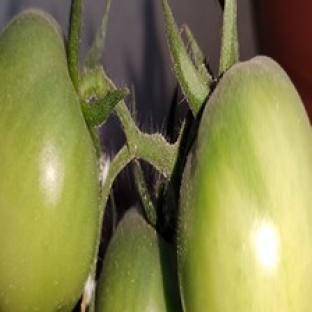Tomato: (179, 56, 311, 311), (0, 10, 98, 311), (97, 209, 181, 311)
